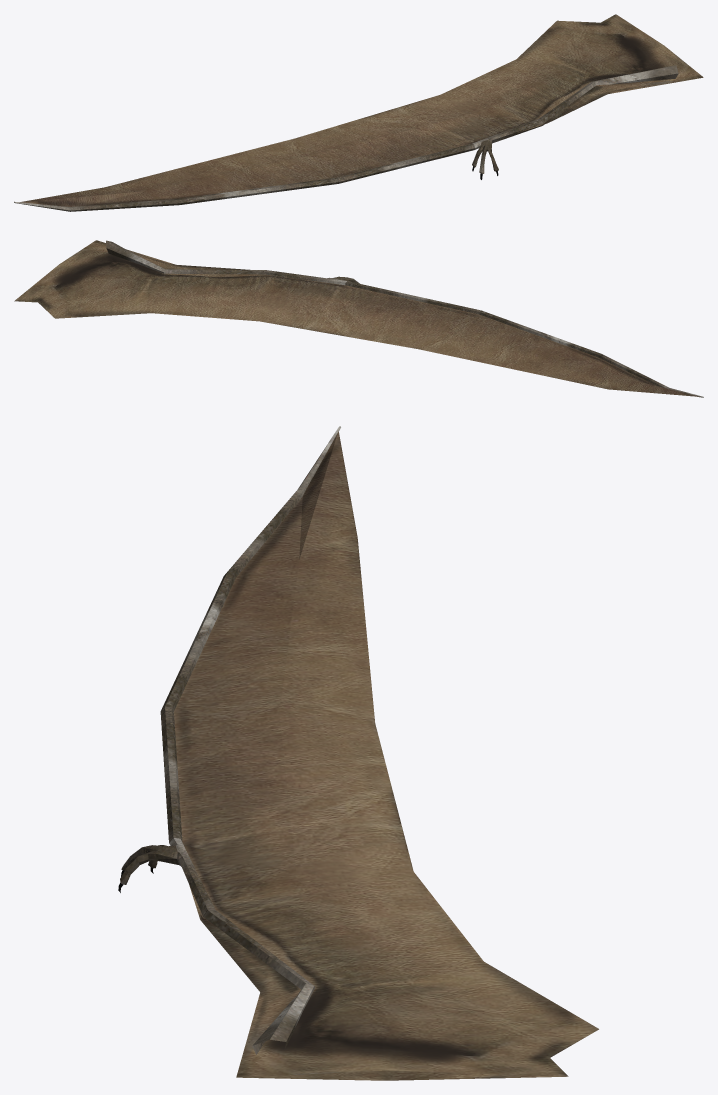
Rendered from pteroAlaD.obj.
3 renders of one model, top to bottom at view 1: azimuth 30°, elevation 25°; view 2: azimuth 150°, elevation 25°; view 3: azimuth 270°, elevation 25°, orthographic. The views are drawn at different scales.
Visible parts, largest first — view 1: pteroAlas:corpo1corpo; view 2: pteroAlas:corpo1corpo; view 3: pteroAlas:corpo1corpo.
Boxes of the visible parts, x1,y1,x2,y2 form: pteroAlas:corpo1corpo: (14,14,703,211); pteroAlas:corpo1corpo: (14,240,703,397); pteroAlas:corpo1corpo: (118,426,598,1080).
Bounding box in the file's own units: 4.64 × 0.252 × 1.53.
Materials: 1 (1 with a texture image).
